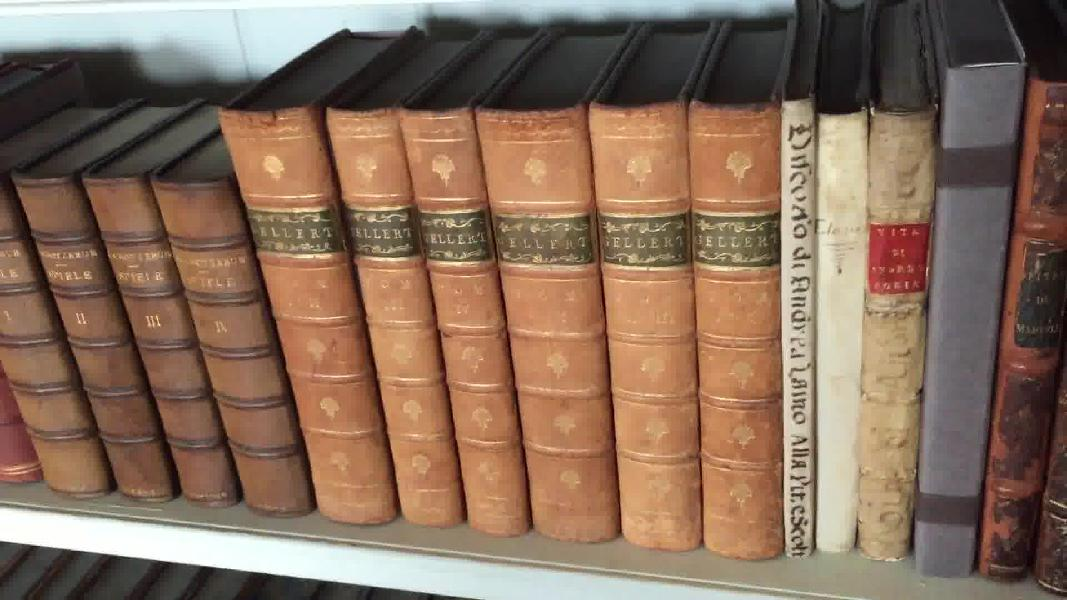Aa6-14_17: (4, 135, 321, 535)
Aa6-18_23: (221, 92, 782, 570)
Aa6-24: (783, 84, 824, 562)
Aa6-25: (819, 96, 882, 540)
Aa6-26: (866, 89, 933, 561)
Aa6-27: (916, 25, 1017, 574)
Aa6-28: (982, 57, 1062, 577)
